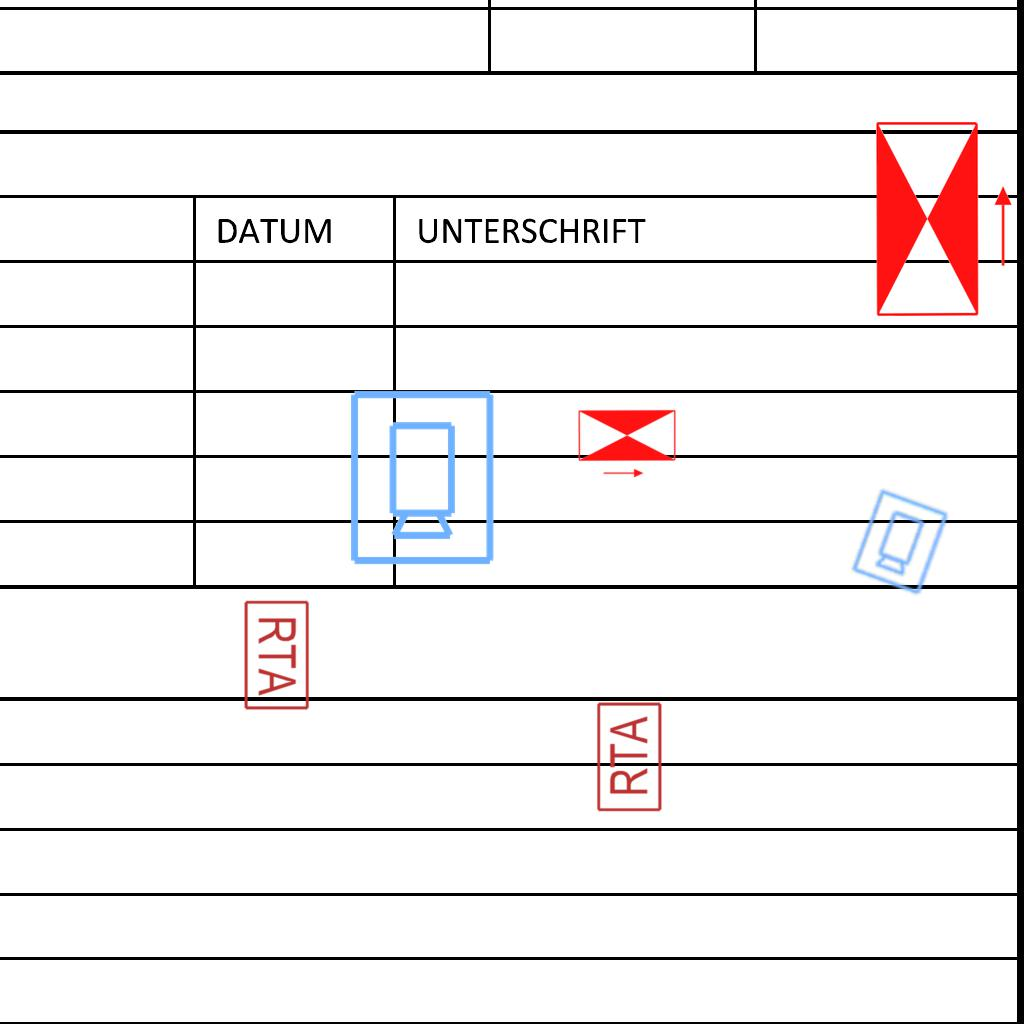Fluchtwegpiktogramm: (870, 115, 1017, 323), (575, 407, 679, 480)
KFO_Kamera_mit_Festobjektiv: (344, 386, 498, 568), (847, 485, 952, 598)
Ruf-und_Abstelltaster: (595, 701, 664, 815), (242, 597, 311, 711)
